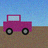vehicle: (3, 15, 31, 35)
